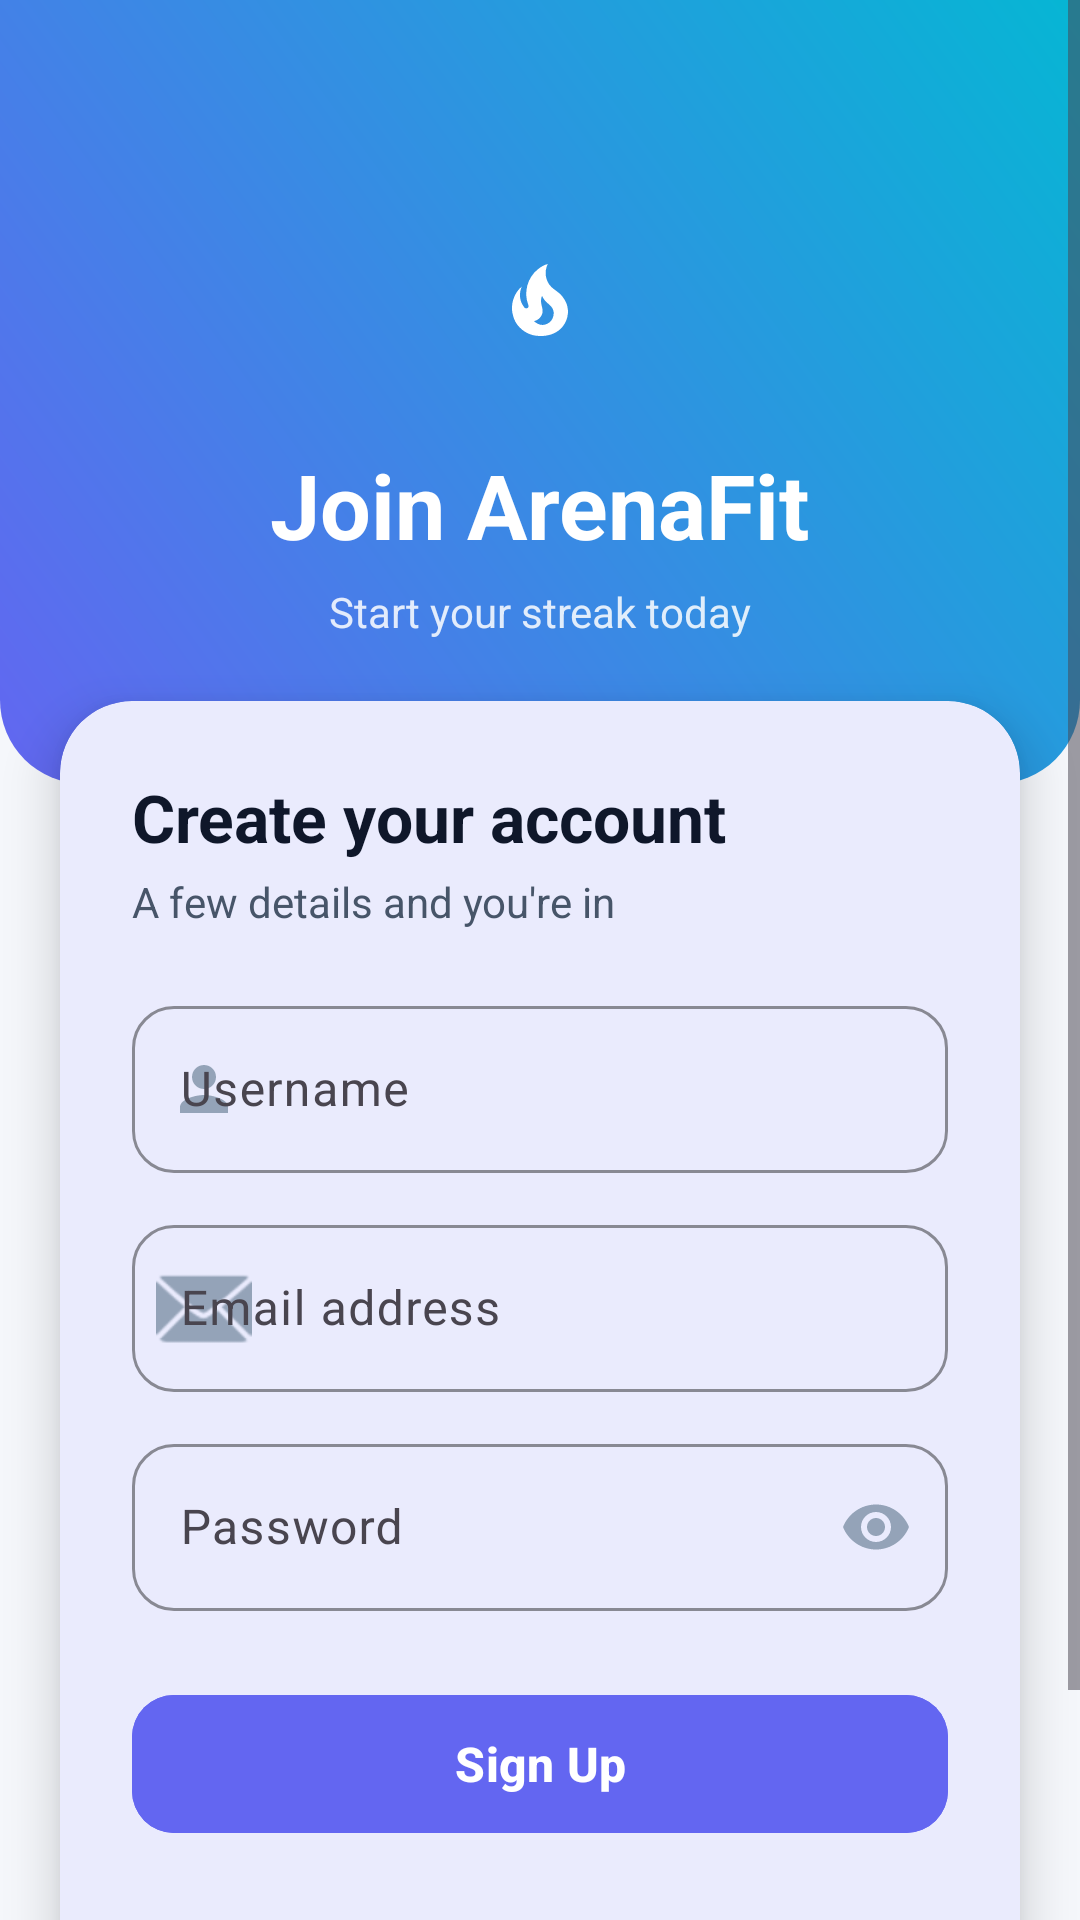

Icons on this 1080w x 1920h Android screen, each with its box as (x1, y1, x2, y2):
flame: (512, 264, 568, 336)
